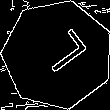L_SW: (28, 27, 87, 82)
